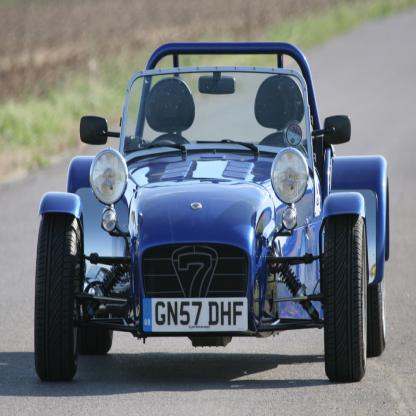Car: (32, 36, 382, 396)
